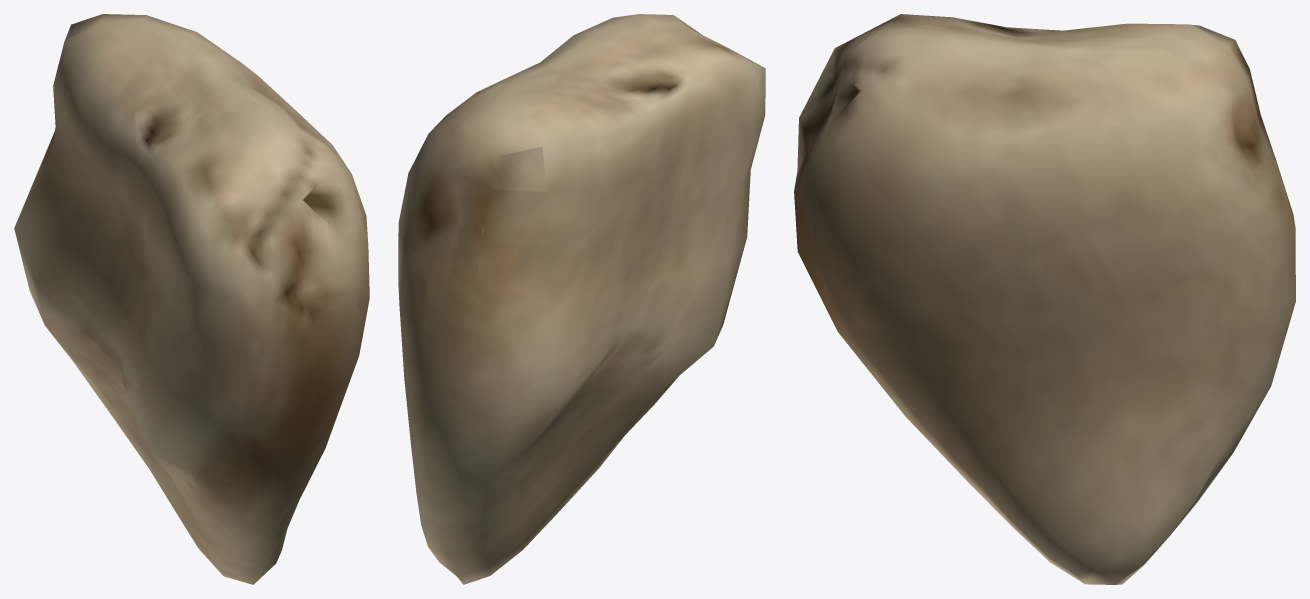
Rendered from Mandibular_Premolar2.glb.
The picture shows the model from 3 angles, left to right: view 1: azimuth 30°, elevation 25°; view 2: azimuth 150°, elevation 25°; view 3: azimuth 270°, elevation 25°; orthographic projection. The views are drawn at different scales.
Parts seen in each view (by area): view 1: Premolar2; view 2: Premolar2; view 3: Premolar2.
Boxes of the visible parts, x1,y1,x2,y2 form: Premolar2: [14, 14, 369, 584]; Premolar2: [398, 14, 765, 584]; Premolar2: [794, 14, 1295, 584].
Bounding box in the file's own units: 0.0147 × 0.0336 × 0.0294.
1 material, 1 textured.
